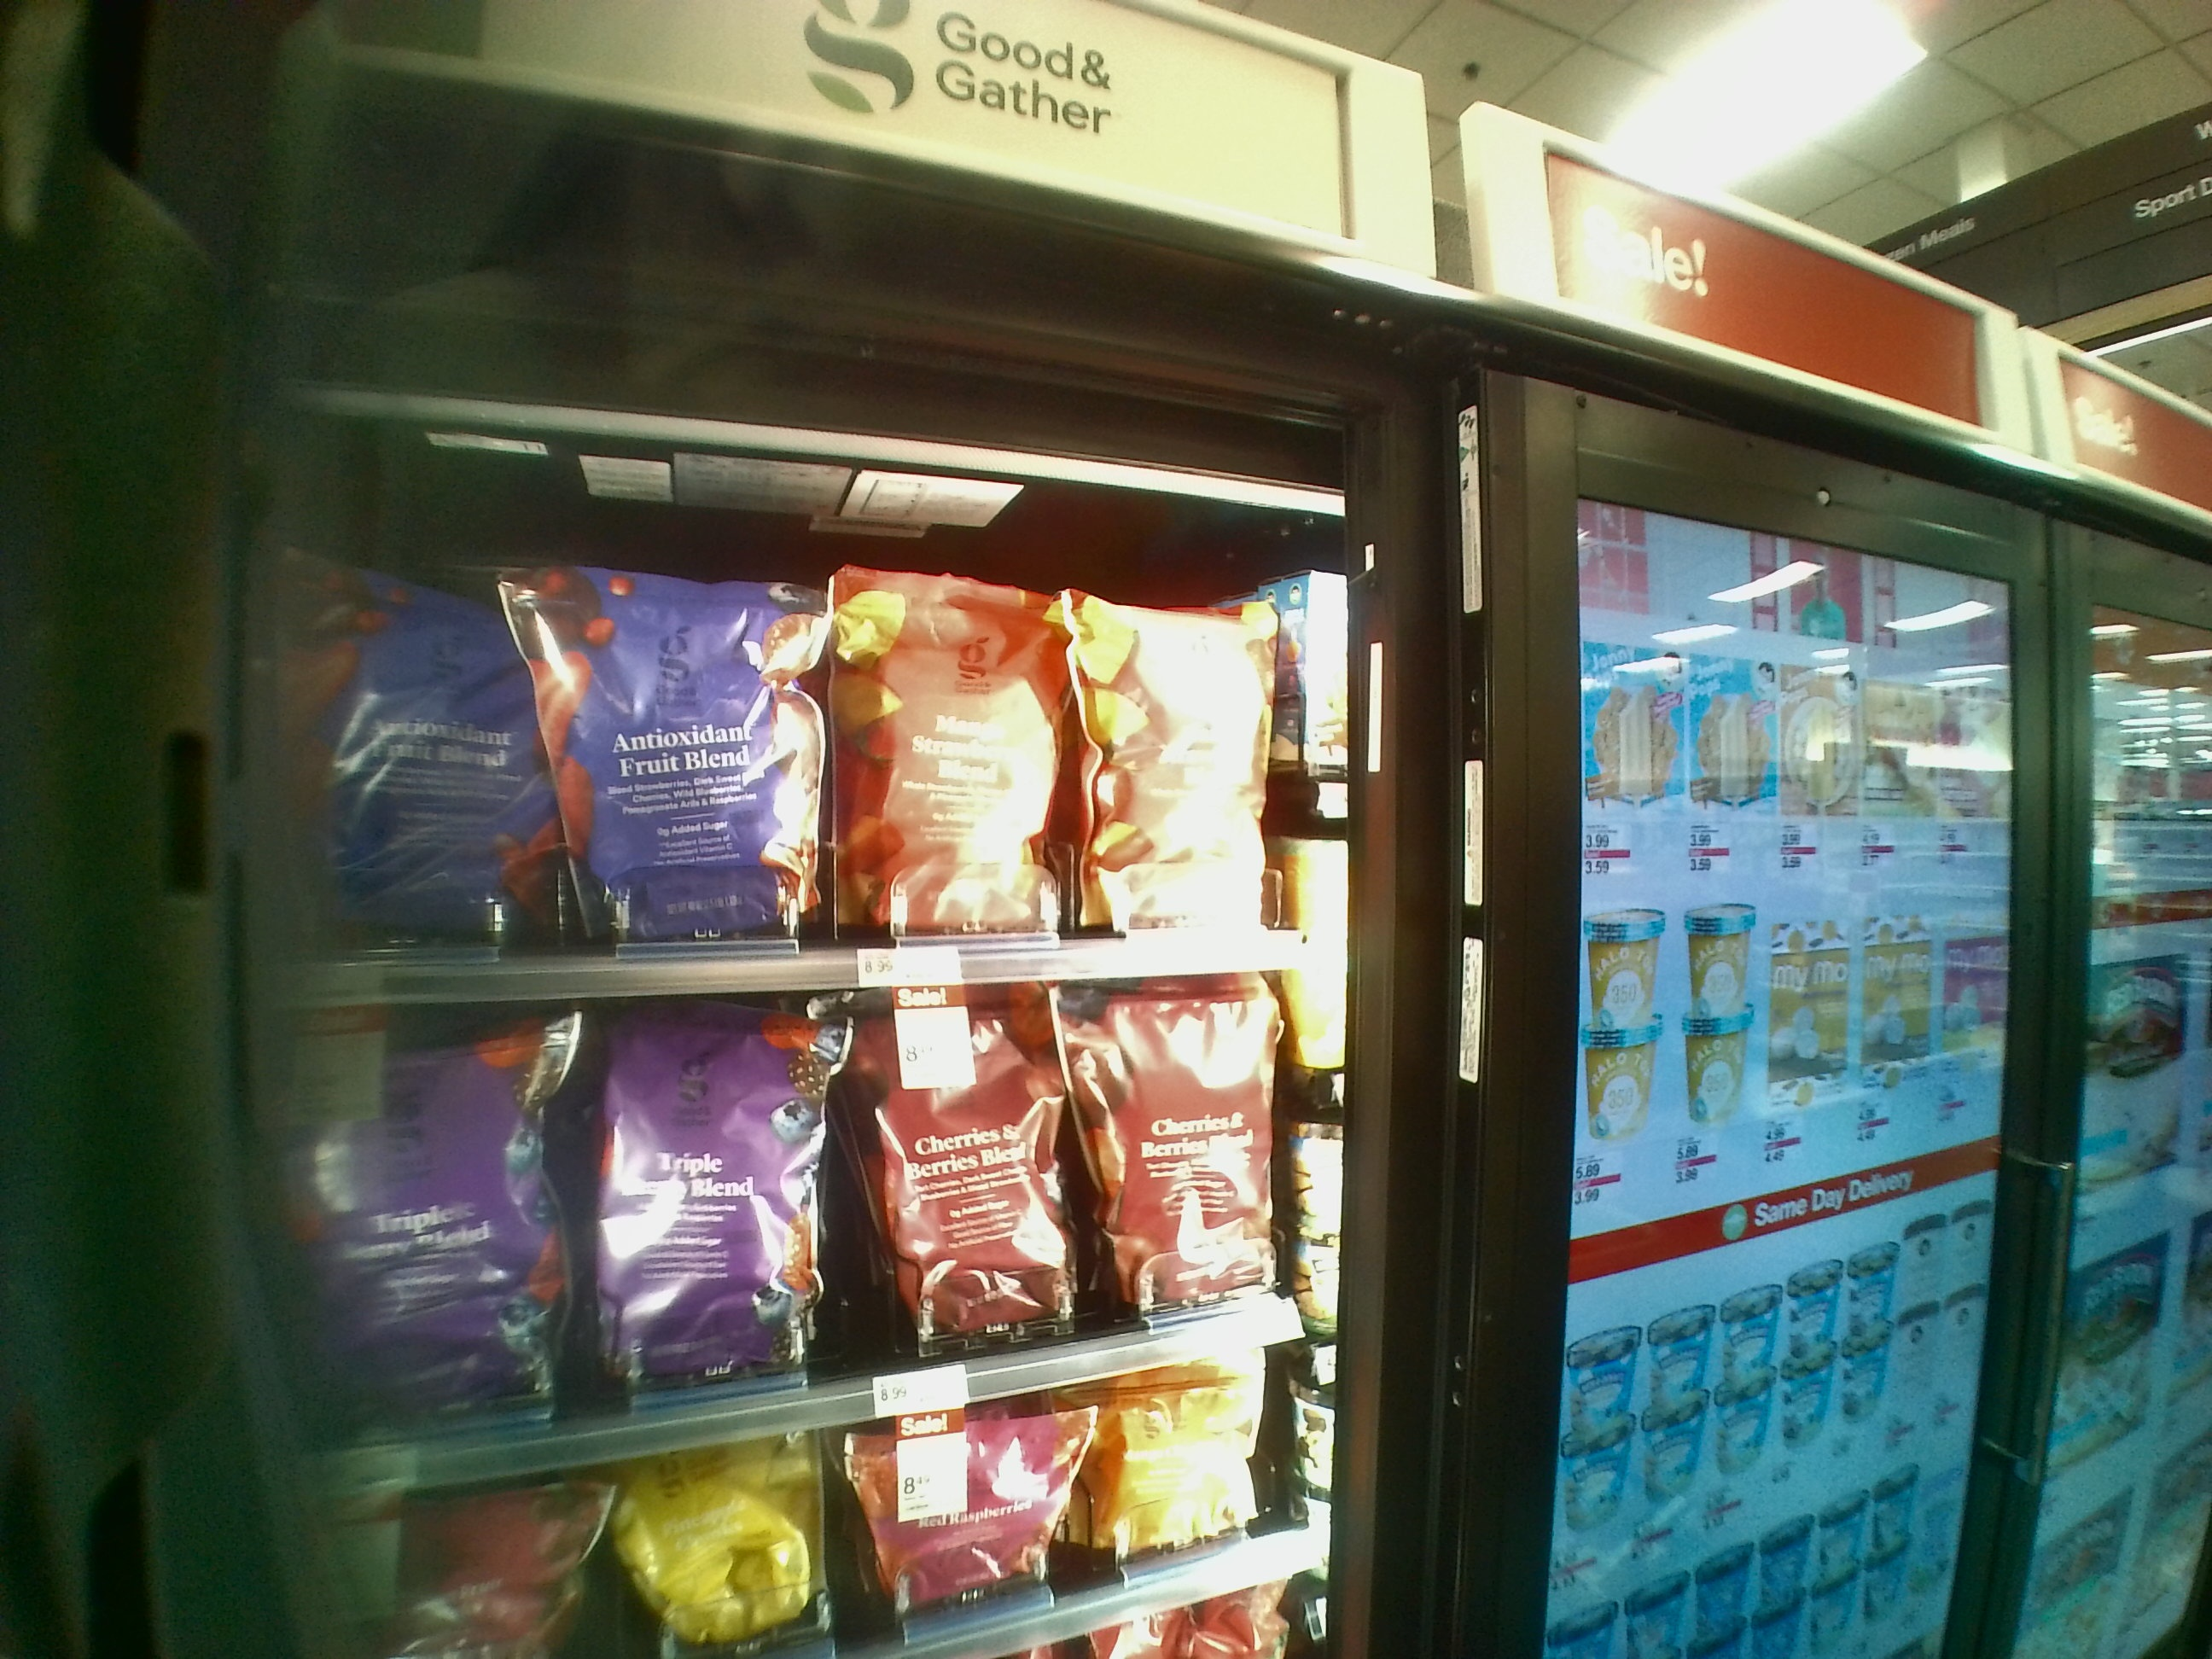shelf: (249, 425, 1348, 999), (272, 978, 1332, 1415)
